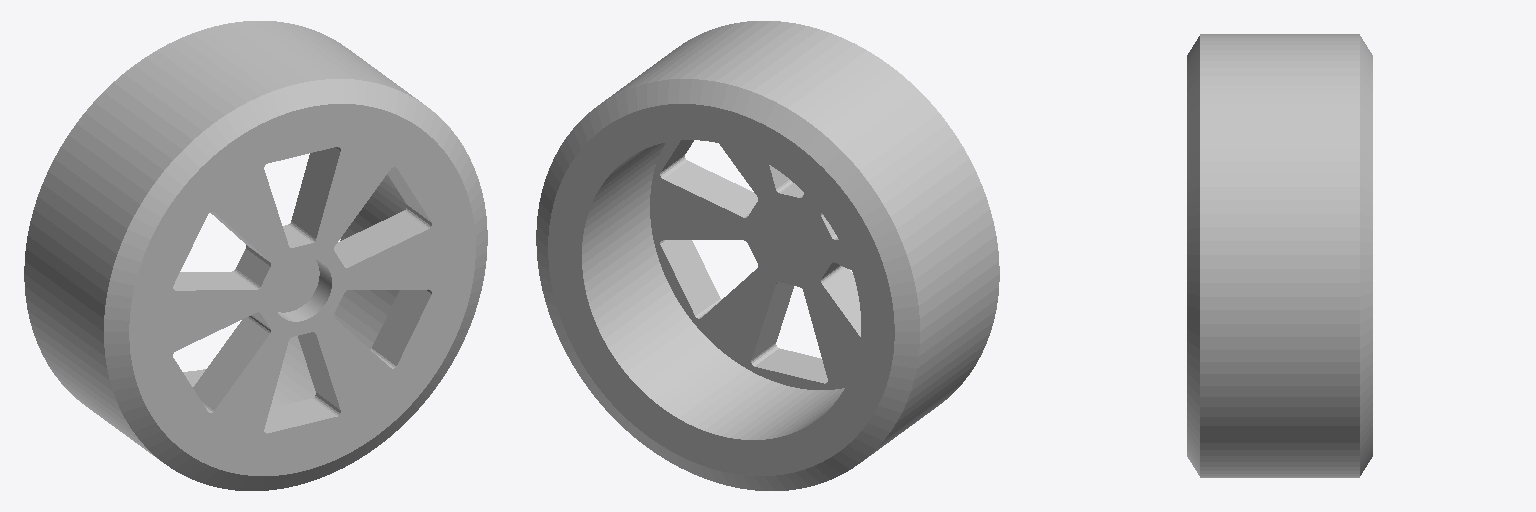
File: mushr_nano_wheel_back_left.obj
3 views of the same model, side by side, from view 1: azimuth 30°, elevation 25°; view 2: azimuth 150°, elevation 25°; view 3: azimuth 270°, elevation 25° (orthographic).
Visible parts, largest first — view 1: Racecar_Chassis_Wheel_Tire, Racecar_Chassis_Wheel_Hub; view 2: Racecar_Chassis_Wheel_Tire, Racecar_Chassis_Wheel_Hub; view 3: Racecar_Chassis_Wheel_Tire.
Boxes of the visible parts, <box> form: Racecar_Chassis_Wheel_Tire: <box>24,21,487,490</box>; Racecar_Chassis_Wheel_Hub: <box>149,125,455,454</box>; Racecar_Chassis_Wheel_Tire: <box>536,21,999,490</box>; Racecar_Chassis_Wheel_Hub: <box>568,125,874,454</box>; Racecar_Chassis_Wheel_Tire: <box>1187,34,1372,477</box>.
Bounding box in the file's own units: 0.976 × 0.976 × 0.41.